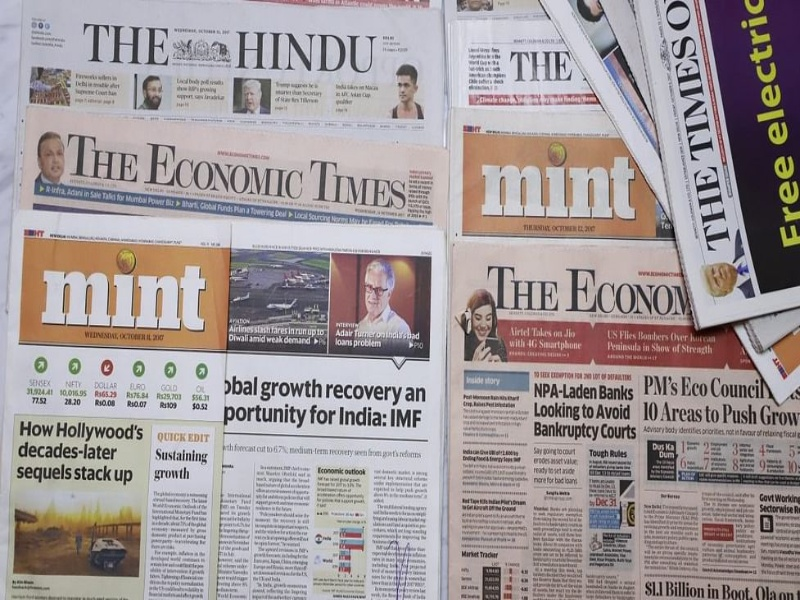Newspaper_Reuse: (5, 5, 798, 596)
